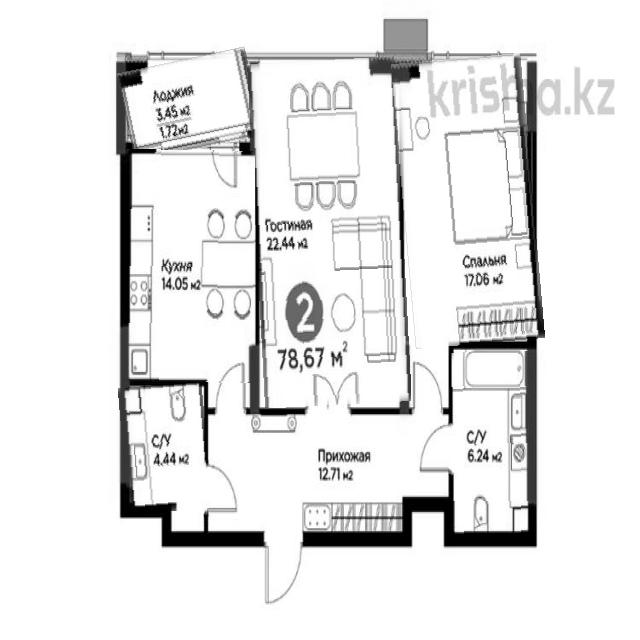balcony: (120, 53, 259, 156)
bathroom: (450, 352, 534, 535), (120, 383, 210, 512)
hallway: (206, 410, 451, 540)
kitchen: (123, 149, 254, 383)
living_room: (252, 58, 407, 407), (398, 55, 540, 347)
